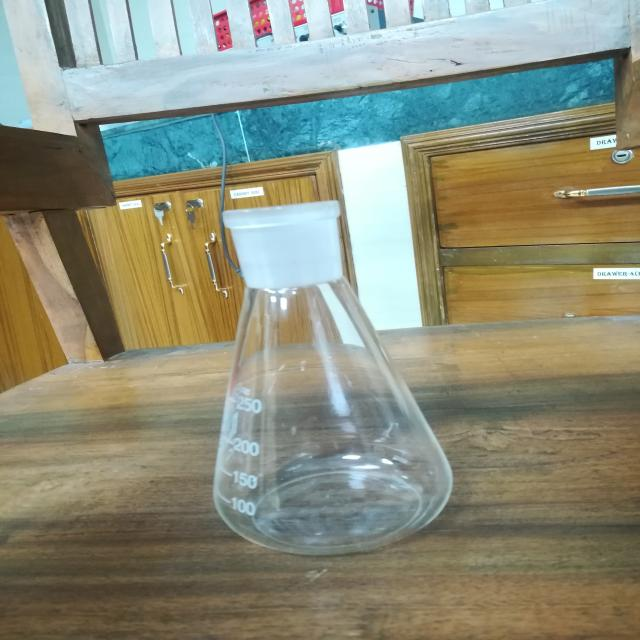Conical_Flask: (187, 170, 493, 570)
